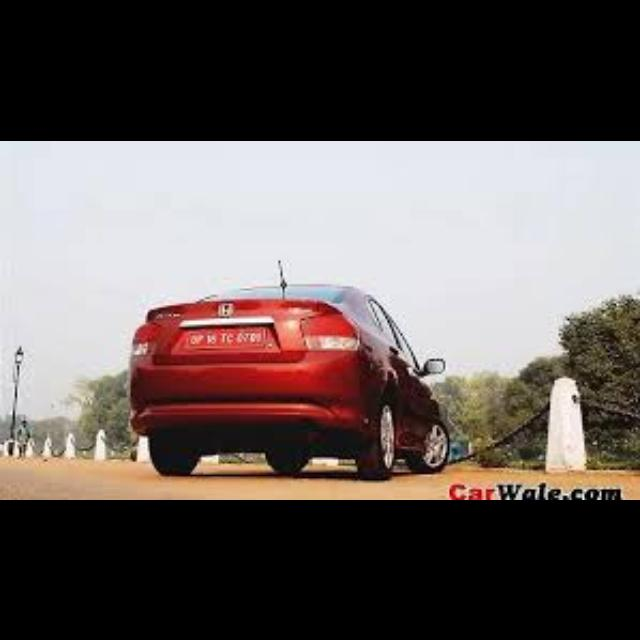vehicles: (124, 260, 458, 482)
